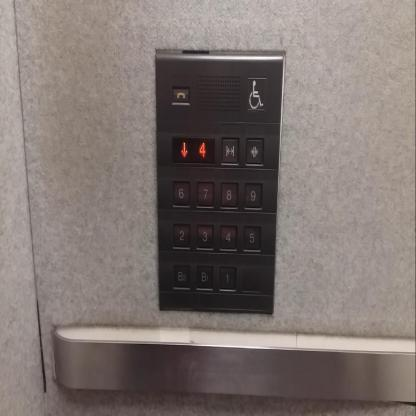1: (218, 264, 238, 292)
2: (172, 220, 190, 250)
3: (194, 222, 215, 250)
4: (218, 222, 239, 251)
5: (242, 223, 263, 252)
6: (171, 178, 191, 208)
7: (196, 180, 214, 208)
8: (220, 178, 238, 210)
9: (244, 180, 263, 210)
B1: (194, 262, 214, 291)
B2: (172, 260, 192, 290)
CH: (245, 75, 267, 111)
call: (170, 85, 190, 105)
close: (245, 138, 264, 166)
led: (172, 134, 215, 163)
open: (221, 137, 239, 165)
